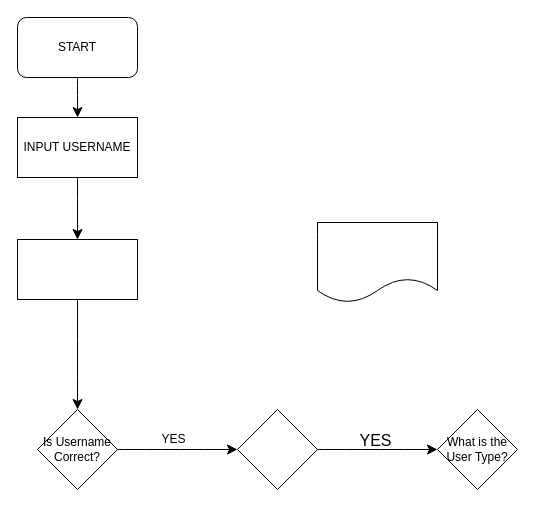
Image size: 535x507. Some labels were removed from this diagram. Here are the shapes that lost their labels. From the top down, the box of each, then its label:
(16, 238, 138, 300): INPUT PASSWORD
(236, 408, 318, 490): Is password Correct?
